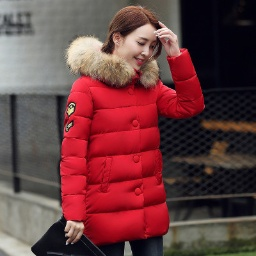face: (96, 3, 177, 94)
